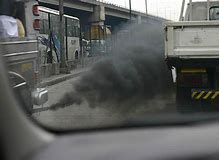smoke: (52, 39, 163, 111)
